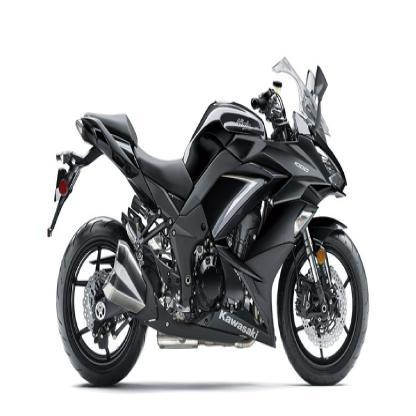Motorcycle: (43, 42, 372, 392)
